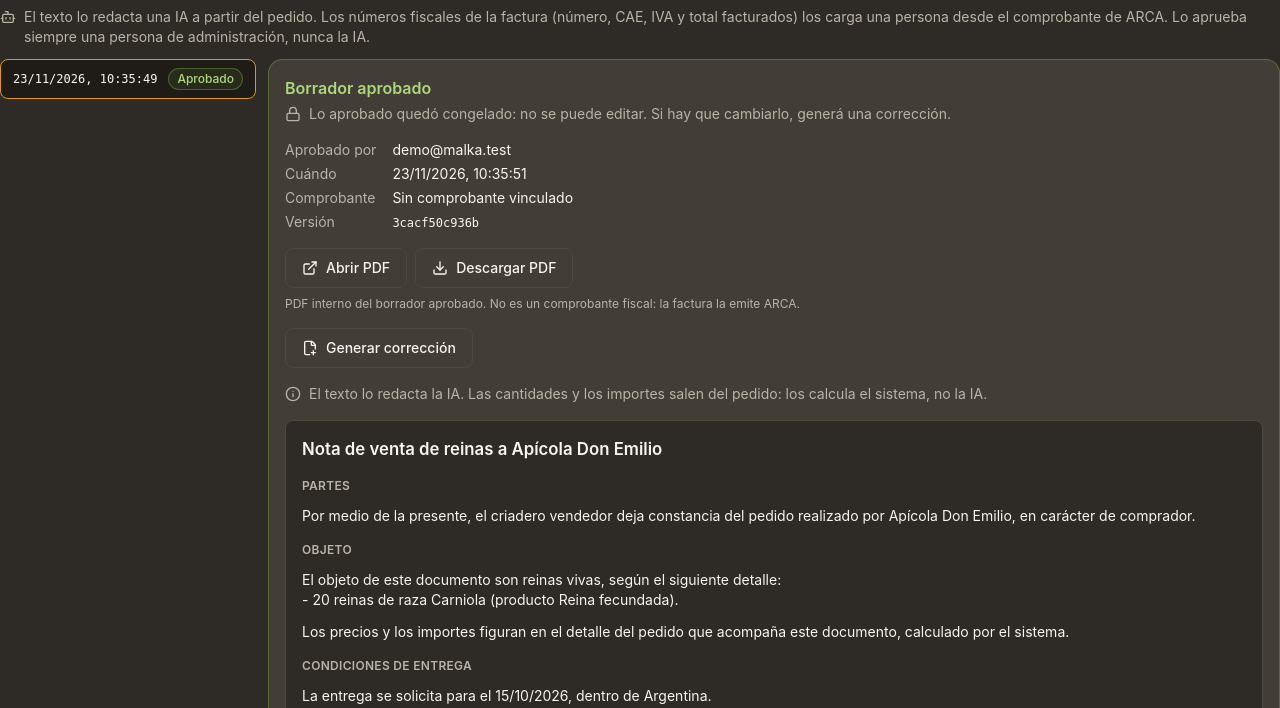
Test: aprobación del borrador en el detalle del pedido › aprobado › genera una corrección con corrige_a y la marca como tal
(page scrolled)
Expected: the heading "Borrador aprobado" is shown, [285,78,431,98]
Click the button "Generar corrección".
click(379, 348)  # box [285,328,473,368]
Wait 4000 ms
(page scrolled)
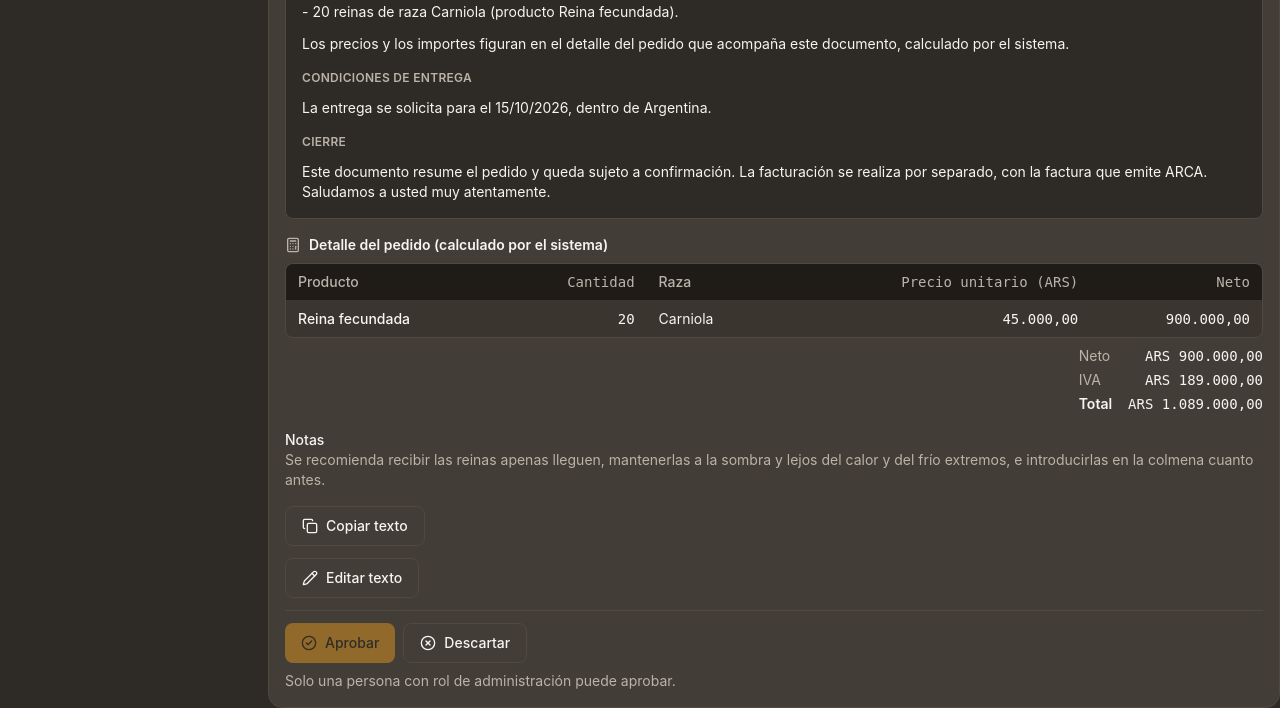
Expected: the button "Aprobar" is shown, [285,623,395,663]
